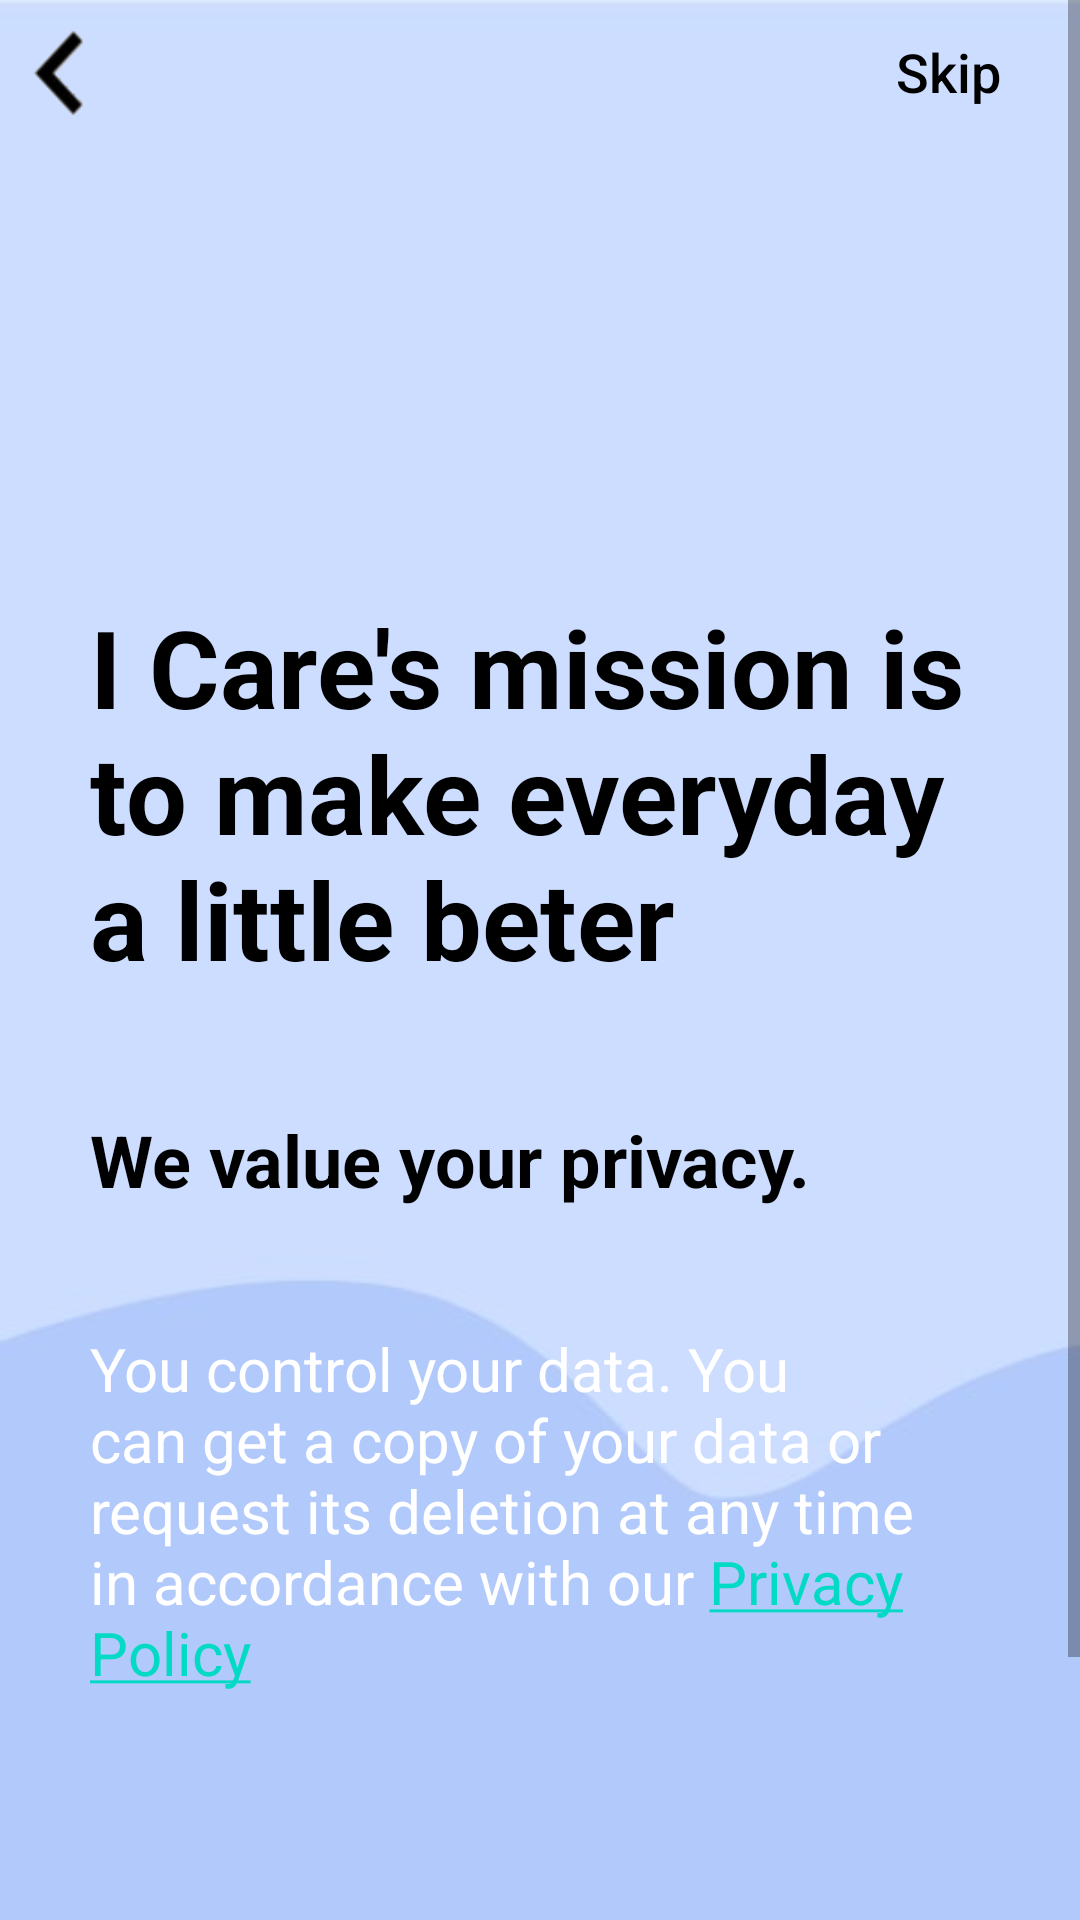

Where icons sit on this 1080w x 1920h app screen, as (x1, y1, x2, y2):
back arrow: (34, 31, 83, 115)
